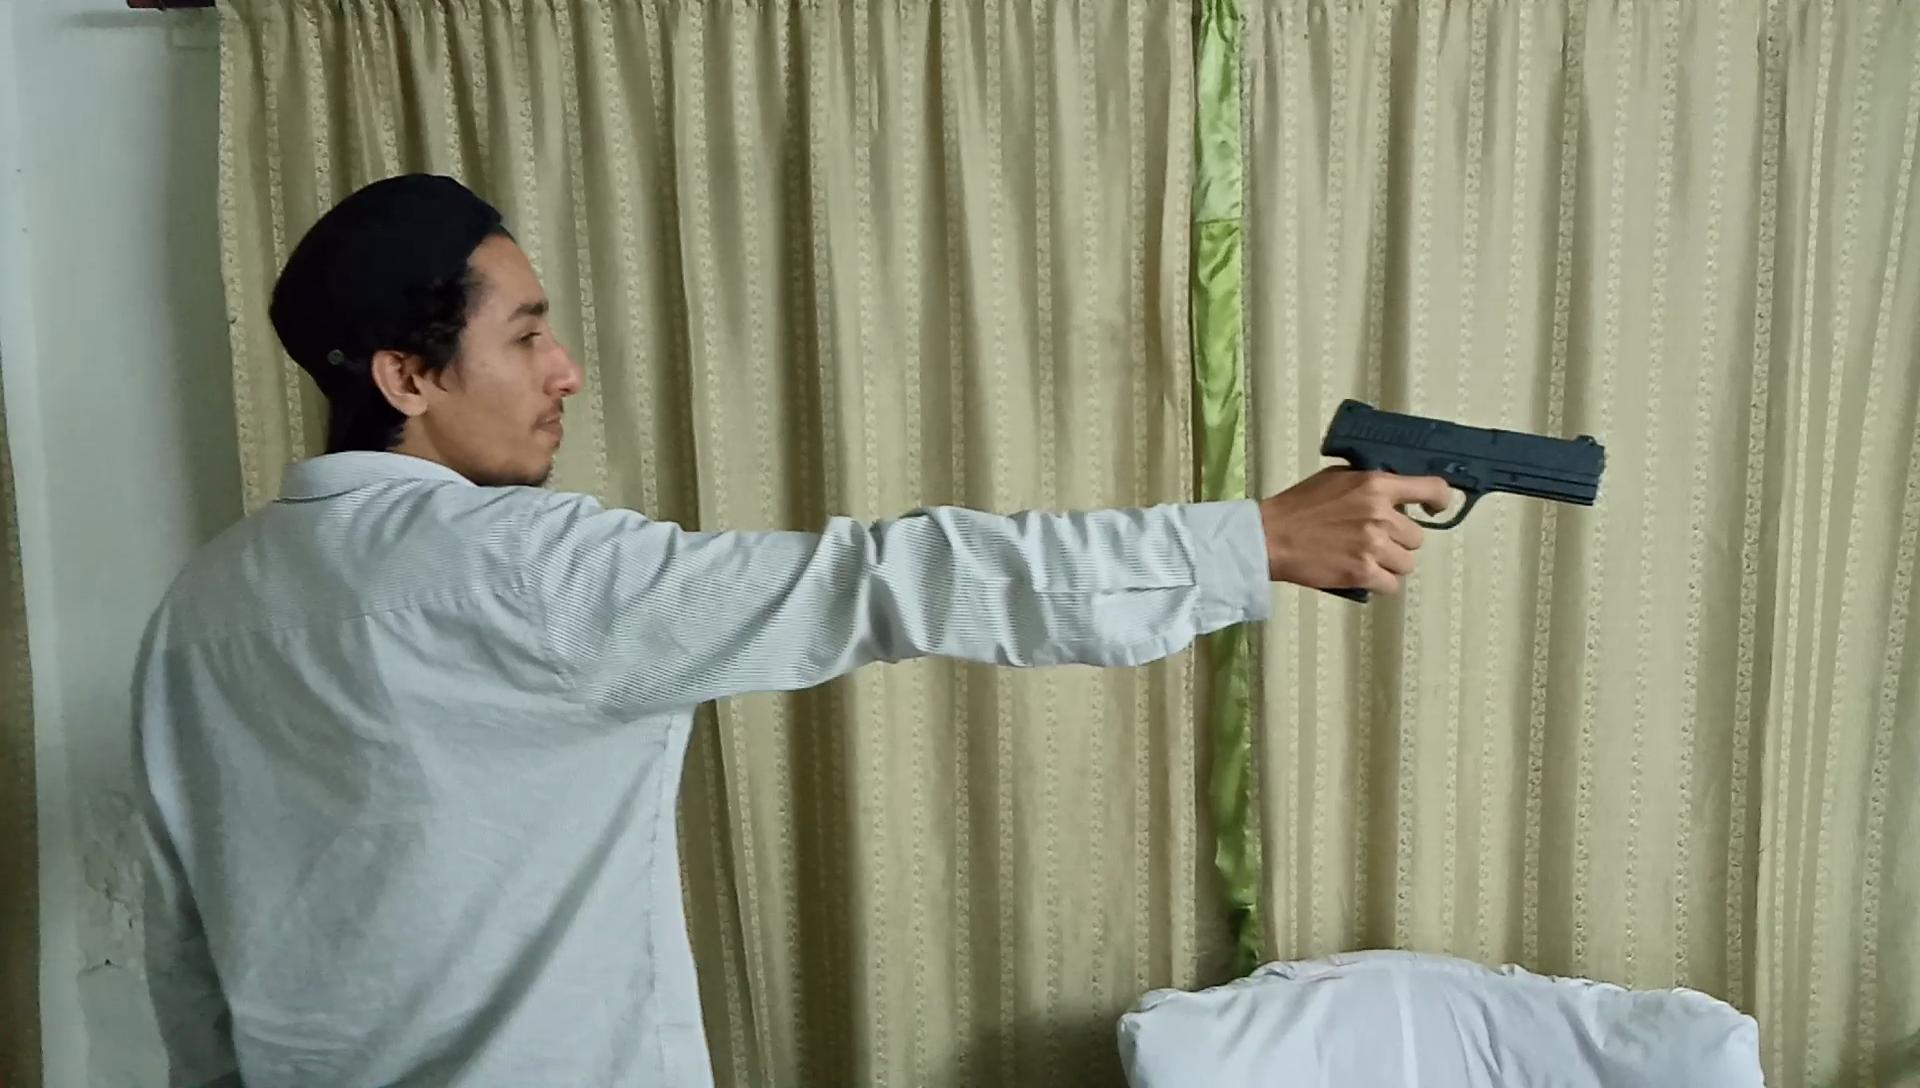criminal: (123, 166, 1607, 1088)
weapon: (1313, 393, 1607, 609)
